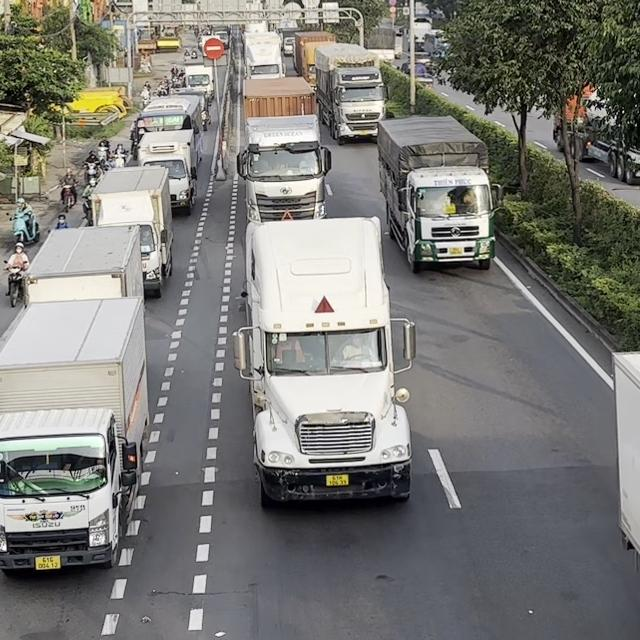bus: (130, 95, 203, 169)
motorcycle: (2, 260, 30, 308), (9, 211, 40, 245), (60, 180, 78, 212), (83, 161, 101, 186), (80, 193, 93, 224)
truck: (232, 215, 416, 506), (0, 295, 153, 579), (376, 113, 503, 272), (235, 77, 332, 224), (88, 165, 174, 298), (24, 224, 144, 305), (313, 42, 388, 145), (135, 129, 200, 214), (243, 31, 286, 79), (183, 65, 214, 101)
